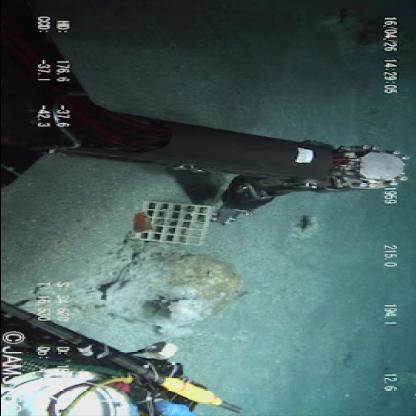Rov: (41, 91, 414, 227), (3, 297, 248, 415), (111, 196, 222, 246)
